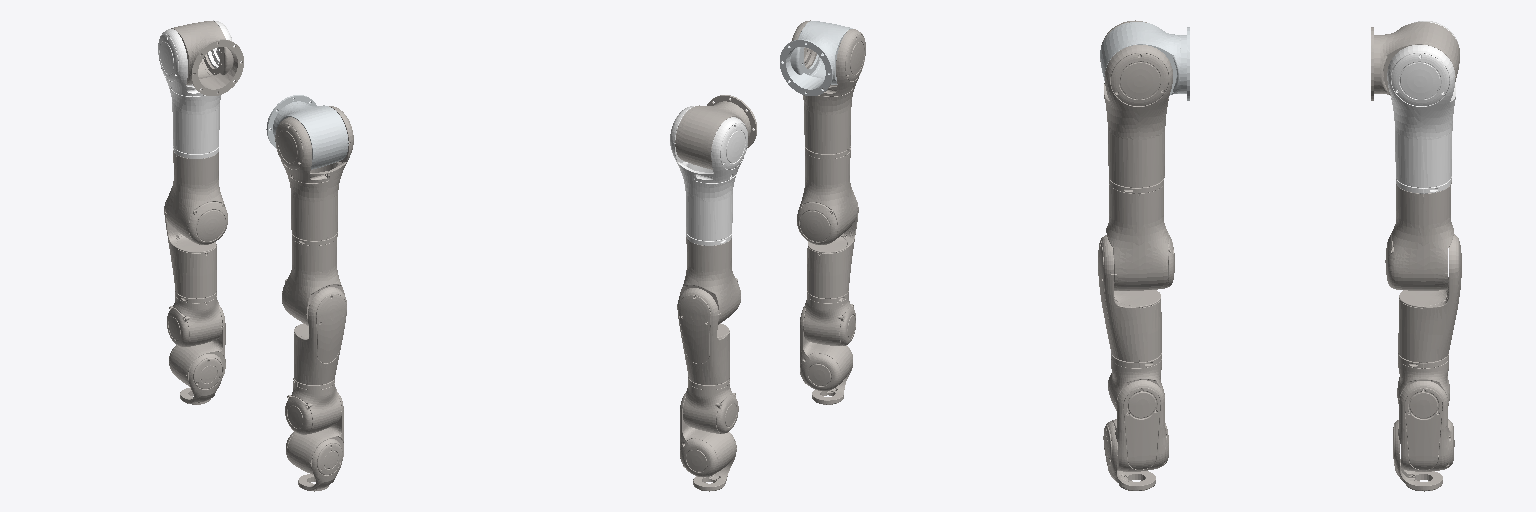
robot.urdf — right_left_arm:
<?xml version="1.0" encoding="utf-8"?>
<robot name="right_left_arm">
  <link name="base_link">
    <inertial>
      <origin xyz="-0.00389758138251344 0.000795125518273754 0.281219418291164" rpy="0 0 0" />
      <mass value="2.55167575122519" />
      <inertia ixx="0.0255567076503664" ixy="2.28972108058705E-06" ixz="0.000135983512760512" iyy="0.0181757596876781" iyz="5.10084221931118E-06" izz="0.0131569874399651" />
    </inertial>
    <visual>
      <origin xyz="0 0 0" rpy="0 0 0" />
      <geometry>
        <mesh filename="package://ia_robot/meshes/base_link_body.STL" />
      </geometry>
      <material name="">
        <color rgba="1 1 1 1" />
      </material>
    </visual>
    <collision>
      <origin xyz="0 0 0" rpy="0 0 0" />
      <geometry>
        <mesh filename="package://ia_robot/meshes/base_link_body.STL" />
      </geometry>
    </collision>
  </link>
  <link name="rlink1">
    <inertial>
      <origin xyz="-2.08280310354247E-06 0.00161949059941522 0.0627032006634779" rpy="0 0 0" />
      <mass value="3.28000" />
      <inertia ixx="0.00188157196552088" ixy="-2.40135238962875E-08" ixz="-5.75831914604761E-08" iyy="0.00231576080757162" iyz="-0.00010018155567541" izz="0.00157852292049741" />
    </inertial>
    <visual>
      <origin xyz="0 0 0" rpy="0 0 0" />
      <geometry>
        <mesh filename="package://ia_robot/meshes/rlink1.STL" />
      </geometry>
      <material name="">
        <color rgba="0.898039215686275 0.917647058823529 0.929411764705882 1" />
      </material>
    </visual>
    <collision>
      <origin xyz="0 0 0" rpy="0 0 0" />
      <geometry>
        <mesh filename="package://ia_robot/meshes/rlink1.STL" />
      </geometry>
    </collision>
  </link>
  <joint name="rjoint1" type="revolute">
    <origin xyz="0 -0.159 0.24" rpy="1.57079632679489 1.5707963267949 0" />
    <parent link="base_link" />
    <child link="rlink1" />
    <axis xyz="0 0 1" />
    <limit lower="-3.14" upper="3.14" effort="300" velocity="1" />
  </joint>
  <link name="rlink2">
    <inertial>
      <origin xyz="-2.4763208496148E-05 -0.0643600565059896 5.32515726273976E-06" rpy="0 0 0" />
      <mass value="2.69000" />
      <inertia ixx="0.0152922453131272" ixy="-3.70768021163177E-06" ixz="3.83973821996791E-08" iyy="0.00699323097176175" iyz="-0.00291573896285968" izz="0.0160952128008031" />
    </inertial>
    <visual>
      <origin xyz="0 0 0" rpy="0 0 0" />
      <geometry>
        <mesh filename="package://ia_robot/meshes/rlink2.STL" />
      </geometry>
      <material name="">
        <color rgba="0.776470588235294 0.756862745098039 0.737254901960784 1" />
      </material>
    </visual>
    <collision>
      <origin xyz="0 0 0" rpy="0 0 0" />
      <geometry>
        <mesh filename="package://ia_robot/meshes/rlink2.STL" />
      </geometry>
    </collision>
  </link>
  <joint name="rjoint2" type="revolute">
    <origin xyz="0 0 0.0850000000000001" rpy="-3.14159265358975 1.48352986419518 -1.57079632679486" />
    <parent link="rlink1" />
    <child link="rlink2" />
    <axis xyz="0 0 1" />
    <limit lower="-3.14" upper="0.1" effort="200" velocity="1" />
  </joint>
  <link name="rlink3">
    <inertial>
      <origin xyz="-0.000247912578623406 -0.00283725409224228 0.0971926215675121" rpy="0 0 0" />
      <mass value="2.59629388364196" />
      <inertia ixx="0.00896060320154467" ixy="5.09932382001823E-05" ixz="-1.38447535734707E-05" iyy="0.00953944543862587" iyz="-0.000158495893629265" izz="0.00464373379449821" />
    </inertial>
    <visual>
      <origin xyz="0 0 0" rpy="0 0 0" />
      <geometry>
        <mesh filename="package://ia_robot/meshes/rlink3.STL" />
      </geometry>
      <material name="">
        <color rgba="0.776470588235294 0.756862745098039 0.737254901960784 1" />
      </material>
    </visual>
    <collision>
      <origin xyz="0 0 0" rpy="0 0 0" />
      <geometry>
        <mesh filename="package://ia_robot/meshes/rlink3.STL" />
      </geometry>
    </collision>
  </link>
  <joint name="rjoint3" type="revolute">
    <origin xyz="0 -0.224999999999999 0" rpy="-1.57079632679498 -1.48352986419518 -3.14159265358971" />
    <parent link="rlink2" />
    <child link="rlink3" />
    <axis xyz="0 0 1" />
    <limit lower="-3.14" upper="3.14" effort="200" velocity="1" />
  </joint>
  <link name="rlink4">
    <inertial>
      <origin xyz="-0.0800785511634325 5.13879548798973E-06 -0.013492208405962" rpy="0 0 0" />
      <mass value="1.800" />
      <inertia ixx="0.00317428178212875" ixy="-2.3223910910558E-07" ixz="-0.00158267658114894" iyy="0.00775114084358154" iyz="-1.6718177668853E-07" izz="0.00820069758730051" />
    </inertial>
    <visual>
      <origin xyz="0 0 0" rpy="0 0 0" />
      <geometry>
        <mesh filename="package://ia_robot/meshes/rlink4.STL" />
      </geometry>
      <material name="">
        <color rgba="0.776470588235294 0.756862745098039 0.737254901960784 1" />
      </material>
    </visual>
    <collision>
      <origin xyz="0 0 0" rpy="0 0 0" />
      <geometry>
        <mesh filename="package://ia_robot/meshes/rlink4.STL" />
      </geometry>
    </collision>
  </link>
  <joint name="rjoint4" type="revolute">
    <origin xyz="0.00359517438834202 0.0410930312962845 0.145" rpy="-1.4707963267949 1.5707963267949 0" />
    <parent link="rlink3" />
    <child link="rlink4" />
    <axis xyz="0 0 1" />
    <limit lower="-1.4" upper="1.4" effort="200" velocity="1" />
  </joint>
  <link name="rlink5">
    <inertial>
      <origin xyz="0.00266045029177781 -0.000234540555031588 0.0439583915881141" rpy="0 0 0" />
      <mass value="1.50318201927913" />
      <inertia ixx="0.00217663469287259" ixy="-2.35312922226708E-05" ixz="-6.20645977511597E-05" iyy="0.00190983975291487" iyz="5.36427463732566E-06" izz="0.00156524567800616" />
    </inertial>
    <visual>
      <origin xyz="0 0 0" rpy="0 0 0" />
      <geometry>
        <mesh filename="package://ia_robot/meshes/rlink5.STL" />
      </geometry>
      <material name="">
        <color rgba="0.776470588235294 0.756862745098039 0.737254901960784 1" />
      </material>
    </visual>
    <collision>
      <origin xyz="0 0 0" rpy="0 0 0" />
      <geometry>
        <mesh filename="package://ia_robot/meshes/rlink5.STL" />
      </geometry>
    </collision>
  </link>
  <joint name="rjoint5" type="revolute">
    <origin xyz="-0.186499999999999 0 -0.0412499999999999" rpy="1.5707963267949 0.000 -1.5707963267949" />
    <parent link="rlink4" />
    <child link="rlink5" />
    <axis xyz="0 0 1" />
    <limit lower="-3.14" upper="3.14" effort="100" velocity="1" />
  </joint>
  <link name="rlink6">
    <inertial>
      <origin xyz="0.00216965532390774 0.0694646027094146 0.0215302951828984" rpy="0 0 0" />
      <mass value="1.6410575801377" />
      <inertia ixx="0.00404335825498938" ixy="-9.87105376458413E-05" ixz="6.26738467485885E-05" iyy="0.00197198282862732" iyz="0.000723539882508139" izz="0.00371776982636216" />
    </inertial>
    <visual>
      <origin xyz="0 0 0" rpy="0 0 0" />
      <geometry>
        <mesh filename="package://ia_robot/meshes/rlink6.STL" />
      </geometry>
      <material name="">
        <color rgba="0.776470588235294 0.756862745098039 0.737254901960784 1" />
      </material>
    </visual>
    <collision>
      <origin xyz="0 0 0" rpy="0 0 0" />
      <geometry>
        <mesh filename="package://ia_robot/meshes/rlink6.STL" />
      </geometry>
    </collision>
  </link>
  <joint name="rjoint6" type="revolute">
    <origin xyz="0 0 0.0594999999999999" rpy="1.5707963267949 0 1.48352986419518" />
    <parent link="rlink5" />
    <child link="rlink6" />
    <axis xyz="0 0 1" />
    <limit lower="-1.4" upper="1.4" effort="100" velocity="1" />
  </joint>
  <link name="rlink7">
    <inertial>
      <origin xyz="0.0358578517961456 9.61380048902782E-08 0.0265888368273027" rpy="0 0 0" />
      <mass value="0.16" />
      <inertia ixx="0.000516426130136875" ixy="3.02840105537652E-09" ixz="0.000293961357992134" iyy="0.00091674778940183" iyz="-3.65792094178381E-09" izz="0.000855256582554781" />
    </inertial>
    <visual>
      <origin xyz="0 0 0" rpy="0 0 0" />
      <geometry>
        <mesh filename="package://ia_robot/meshes/rlink7.STL" />
      </geometry>
      <material name="">
        <color rgba="0.776470588235294 0.756862745098039 0.737254901960784 1" />
      </material>
    </visual>
    <collision>
      <origin xyz="0 0 0" rpy="0 0 0" />
      <geometry>
        <mesh filename="package://ia_robot/meshes/rlink7.STL" />
      </geometry>
    </collision>
  </link>
  <joint name="rjoint7" type="revolute">
    <origin xyz="0 0.0950000000000004 0" rpy="1.5707963267949 0 1.5707963267949" />
    <parent link="rlink6" />
    <child link="rlink7" />
    <axis xyz="0 0 1" />
    <limit lower="-1.65" upper="0.65" effort="100" velocity="1" />
  </joint>
  <link name="ree_link">
    <inertial>
      <origin xyz="0.260863782297582 0.241513971664168 0.0344885319982632" rpy="-1.5007963267949 0 0" />
      <mass value="0.0001" />
      <inertia ixx="1.77525561757236E-09" ixy="1.77525561757236E-09" ixz="1.77525561757236E-09" iyy="1.77525561757236E-09" iyz="1.77525561757236E-09" izz="1.77525561757236E-09" />
    </inertial>
  </link>
  <joint name="rjoint8" type="fixed">
    <origin xyz="0.0765000000000002 0 0.000368852459016442" rpy="-1.5007963267949 0 0" />
    <parent link="rlink7" />
    <child link="ree_link" />
    <axis xyz="0 0 0" />
  </joint>
  <link name="llink1">
    <inertial>
      <origin xyz="0.00161896341598253 5.37405468570284E-07 0.0627030571106734" rpy="0 0 0" />
      <mass value="3.28000" />
      <inertia ixx="0.00674152114325985" ixy="-1.13724950485265E-07" ixz="-0.000291654355438417" iyy="0.00547744964277435" iyz="5.61252041151383E-08" izz="0.00459538103758741" />
    </inertial>
    <visual>
      <origin xyz="0 0 0" rpy="0 0 0" />
      <geometry>
        <mesh filename="package://ia_robot/meshes/llink1.STL" />
      </geometry>
      <material name="">
        <color rgba="0.776470588235294 0.756862745098039 0.737254901960784 1" />
      </material>
    </visual>
    <collision>
      <origin xyz="0 0 0" rpy="0 0 0" />
      <geometry>
        <mesh filename="package://ia_robot/meshes/llink1.STL" />
      </geometry>
    </collision>
  </link>
  <joint name="ljoint1" type="revolute">
    <origin xyz="0 0.159 0.24" rpy="-1.5707963267949 0 0" />
    <parent link="base_link" />
    <child link="llink1" />
    <axis xyz="0 0 1" />
    <limit lower="-3.14" upper="3.14" effort="300" velocity="1" />
  </joint>
  <link name="llink2">
    <inertial>
      <origin xyz="-0.0681183936854741 8.57597339282146E-07 0.000146095896102457" rpy="0 0 0" />
      <mass value="2.6900" />
      <inertia ixx="0.0071039734066961" ixy="-3.83583466517054E-06" ixz="-0.00291580191868669" iyy="0.0153849511515135" iyz="6.41641677010907E-06" izz="0.0161147853774958" />
    </inertial>
    <visual>
      <origin xyz="0 0 0" rpy="0 0 0" />
      <geometry>
        <mesh filename="package://ia_robot/meshes/llink2.STL" />
      </geometry>
      <material name="">
        <color rgba="1 1 1 1" />
      </material>
    </visual>
    <collision>
      <origin xyz="0 0 0" rpy="0 0 0" />
      <geometry>
        <mesh filename="package://ia_robot/meshes/llink2.STL" />
      </geometry>
    </collision>
  </link>
  <joint name="ljoint2" type="revolute">
    <origin xyz="0 0 0.085" rpy="-1.65806278939461 0 -1.57079632679489" />
    <parent link="llink1" />
    <child link="llink2" />
    <axis xyz="0 0 1" />
    <limit lower="-0.1" upper="3.14" effort="200" velocity="1" />
  </joint>
  <link name="llink3">
    <inertial>
      <origin xyz="-3.33179115182686E-07 0.00292149423829063 0.101329580562293" rpy="0 0 0" />
      <mass value="2.5952428397314" />
      <inertia ixx="0.00893708870487144" ixy="-2.93215676600409E-08" ixz="-5.33872243355228E-09" iyy="0.00945086108505634" iyz="0.000159088947660154" izz="0.00453304999443677" />
    </inertial>
    <visual>
      <origin xyz="0 0 0" rpy="0 0 0" />
      <geometry>
        <mesh filename="package://ia_robot/meshes/llink3.STL" />
      </geometry>
      <material name="">
        <color rgba="0.776470588235294 0.756862745098039 0.737254901960784 1" />
      </material>
    </visual>
    <collision>
      <origin xyz="0 0 0" rpy="0 0 0" />
      <geometry>
        <mesh filename="package://ia_robot/meshes/llink3.STL" />
      </geometry>
    </collision>
  </link>
  <joint name="ljoint3" type="revolute">
    <origin xyz="-0.224999999999999 0 0" rpy="1.57079632679498 -1.48352986419519 -1.57079632679498" />
    <parent link="llink2" />
    <child link="llink3" />
    <axis xyz="0 0 1" />
    <limit lower="-3.14" upper="3.14" effort="200" velocity="1" />
  </joint>
  <link name="llink4">
    <inertial>
      <origin xyz="0.0800785384992342 -5.16291551304511E-06 -0.0197422374145132" rpy="0 0 0" />
      <mass value="1.800" />
      <inertia ixx="0.00317428399236882" ixy="-2.53192673842825E-07" ixz="0.00158267727456873" iyy="0.00775114079895891" iyz="1.70026112295155E-07" izz="0.00820069206719529" />
    </inertial>
    <visual>
      <origin xyz="0 0 0" rpy="0 0 0" />
      <geometry>
        <mesh filename="package://ia_robot/meshes/llink4.STL" />
      </geometry>
      <material name="">
        <color rgba="0.776470588235294 0.756862745098039 0.737254901960784 1" />
      </material>
    </visual>
    <collision>
      <origin xyz="0 0 0" rpy="0 0 0" />
      <geometry>
        <mesh filename="package://ia_robot/meshes/llink4.STL" />
      </geometry>
    </collision>
  </link>
  <joint name="ljoint4" type="revolute">
    <origin xyz="0 -0.0474999999999998 0.145" rpy="1.5707963267949 -1.5707963267949 0" />
    <parent link="llink3" />
    <child link="llink4" />
    <axis xyz="0 0 1" />
    <limit lower="-1.4" upper="1.4" effort="200" velocity="1" />
  </joint>
  <link name="llink5">
    <inertial>
      <origin xyz="1.77232963344612E-06 0.00267037393924771 0.043958262348192" rpy="0 0 0" />
      <mass value="1.50318980268963" />
      <inertia ixx="0.00190777979425661" ixy="9.44532364833122E-09" ixz="6.51415669577866E-08" iyy="0.00217869446494916" iyz="-6.2295657537771E-05" izz="0.00156524552319529" />
    </inertial>
    <visual>
      <origin xyz="0 0 0" rpy="0 0 0" />
      <geometry>
        <mesh filename="package://ia_robot/meshes/llink5.STL" />
      </geometry>
      <material name="">
        <color rgba="0.776470588235294 0.756862745098039 0.737254901960784 1" />
      </material>
    </visual>
    <collision>
      <origin xyz="0 0 0" rpy="0 0 0" />
      <geometry>
        <mesh filename="package://ia_robot/meshes/llink5.STL" />
      </geometry>
    </collision>
  </link>
  <joint name="ljoint5" type="revolute">
    <origin xyz="0.1865 0 -0.0474999999999993" rpy="1.57079632679489 -1.5707963267949 1.5707963267949" />
    <parent link="llink4" />
    <child link="llink5" />
    <axis xyz="0 0 1" />
    <limit lower="-3.14" upper="3.14" effort="100" velocity="1" />
  </joint>
  <link name="llink6">
    <inertial>
      <origin xyz="0.0694647309341223 -0.0021762359373486 0.0215304836130146" rpy="0 0 0" />
      <mass value="1.641343959001" />
      <inertia ixx="0.00197201688320841" ixy="9.87036585379211E-05" ixz="0.000723531988916113" iyy="0.00404335560060063" iyz="-6.26835698901434E-05" izz="0.0037177890381474" />
    </inertial>
    <visual>
      <origin xyz="0 0 0" rpy="0 0 0" />
      <geometry>
        <mesh filename="package://ia_robot/meshes/llink6.STL" />
      </geometry>
      <material name="">
        <color rgba="0.776470588235294 0.756862745098039 0.737254901960784 1" />
      </material>
    </visual>
    <collision>
      <origin xyz="0 0 0" rpy="0 0 0" />
      <geometry>
        <mesh filename="package://ia_robot/meshes/llink6.STL" />
      </geometry>
    </collision>
  </link>
  <joint name="ljoint6" type="revolute">
    <origin xyz="0 0 0.0595" rpy="-1.5708 -1.5708 0" />
    <parent link="llink5" />
    <child link="llink6" />
    <axis xyz="0 0 1" />
    <limit lower="-1.4" upper="1.4" effort="100" velocity="1" />
  </joint>
  <link name="llink7">
    <inertial>
      <origin xyz="0.0352191139550785 -1.26825356883131E-08 -0.0151810783567745" rpy="0 0 0" />
      <mass value="0.16" />
      <inertia ixx="0.000514392647576555" ixy="1.77525561757236E-09" ixz="0.000292583822583006" iyy="0.000913556589078416" iyz="-2.68232986515202E-09" izz="0.000852648440051081" />
    </inertial>
    <visual>
      <origin xyz="0 0 0" rpy="0 0 0" />
      <geometry>
        <mesh filename="package://ia_robot/meshes/llink7.STL" />
      </geometry>
      <material name="">
        <color rgba="0.776470588235294 0.756862745098039 0.737254901960784 1" />
      </material>
    </visual>
    <collision>
      <origin xyz="0 0 0" rpy="0 0 0" />
      <geometry>
        <mesh filename="package://ia_robot/meshes/llink7.STL" />
      </geometry>
    </collision>
  </link>
  <joint name="ljoint7" type="revolute">
    <origin xyz="0.095 -0.0415 0" rpy="1.5708 0 0" />
    <parent link="llink6" />
    <child link="llink7" />
    <axis xyz="0 0 1" />
    <limit lower="-1.65" upper="0.65" effort="100" velocity="1" />
  </joint>
  <joint name="ljoint8" type="fixed">
    <origin xyz="0.0765 0 -0.041131" rpy="-1.5707963267949 0 0" />
    <parent link="llink7" />
    <child link="lee_link" />
    <axis xyz="0 0 0" />
  </joint>
  <link name="lee_link">
    <inertial>
      <origin xyz="0.260863782297581 -0.246453880725799 0.0344871284032966" rpy="-1.5707963267949 0 0" />
      <mass value="0.0001" />
      <inertia ixx="1.77525561757236E-09" ixy="1.77525561757236E-09" ixz="1.77525561757236E-09" iyy="1.77525561757236E-09" iyz="1.77525561757236E-09" izz="1.77525561757236E-09" />
    </inertial>
  </link>
</robot>

--- Facts derived from the render (not from the file) ---
3 views of the same robot in one strip: view 1: azimuth 30°, elevation 25°; view 2: azimuth 150°, elevation 25°; view 3: azimuth 270°, elevation 25° (orthographic).
Model right_left_arm with 17 links and 16 joints (14 revolute, 2 fixed), rooted at base_link, posed all joints at 0.
Links seen in each view (by area): view 1: rlink2, llink2, llink3, rlink4, llink1, rlink3, rlink1, llink4, rlink5, llink5, llink7, rlink6 (+2 smaller); view 2: llink2, rlink2, rlink3, llink4, rlink1, llink1, llink3, rlink4, llink6, rlink6, llink5, rlink5 (+1 smaller); view 3: llink2, rlink2, rlink3, llink3, rlink4, llink4, llink6, rlink6, rlink1, llink1, rlink7, rlink5 (+2 smaller).
Boxes of the visible links, bbox=[...] form: rlink2: bbox=[275, 106, 353, 240]; llink2: bbox=[158, 20, 233, 158]; llink3: bbox=[166, 151, 227, 244]; rlink4: bbox=[293, 287, 346, 389]; llink1: bbox=[171, 21, 243, 95]; rlink3: bbox=[282, 232, 344, 325]; rlink1: bbox=[266, 95, 348, 169]; llink4: bbox=[164, 198, 216, 302]; rlink5: bbox=[285, 381, 341, 434]; llink5: bbox=[167, 296, 222, 346]; llink7: bbox=[180, 354, 223, 404]; rlink6: bbox=[286, 392, 343, 474]; llink2: bbox=[670, 106, 747, 245]; rlink2: bbox=[791, 20, 865, 153]; rlink3: bbox=[797, 146, 857, 244]; llink4: bbox=[677, 288, 729, 389]; rlink1: bbox=[780, 21, 852, 95]; llink1: bbox=[675, 95, 756, 169]; llink3: bbox=[679, 237, 740, 324]; rlink4: bbox=[807, 200, 858, 302]; llink6: bbox=[680, 391, 735, 477]; rlink6: bbox=[800, 306, 852, 390]; llink5: bbox=[683, 382, 738, 433]; rlink5: bbox=[803, 296, 855, 345]; llink2: bbox=[1387, 21, 1459, 193]; rlink2: bbox=[1100, 20, 1172, 187]; rlink3: bbox=[1106, 176, 1174, 290]; llink3: bbox=[1385, 182, 1453, 290]; rlink4: bbox=[1098, 235, 1161, 367]; llink4: bbox=[1398, 234, 1461, 368]; llink6: bbox=[1398, 381, 1454, 471]; rlink6: bbox=[1112, 380, 1168, 471]; rlink1: bbox=[1100, 22, 1189, 100]; llink1: bbox=[1371, 22, 1459, 100]; rlink7: bbox=[1103, 421, 1155, 490]; rlink5: bbox=[1108, 359, 1164, 410].
Bounding box of the posed robot: 0.1412 × 0.6185 × 0.85 m (x, y, z).
Meshes: 15 distinct files referenced, 14 mesh visuals loaded (14 binary STL); not drawn: 1 (reference not matched to a file when rendering).